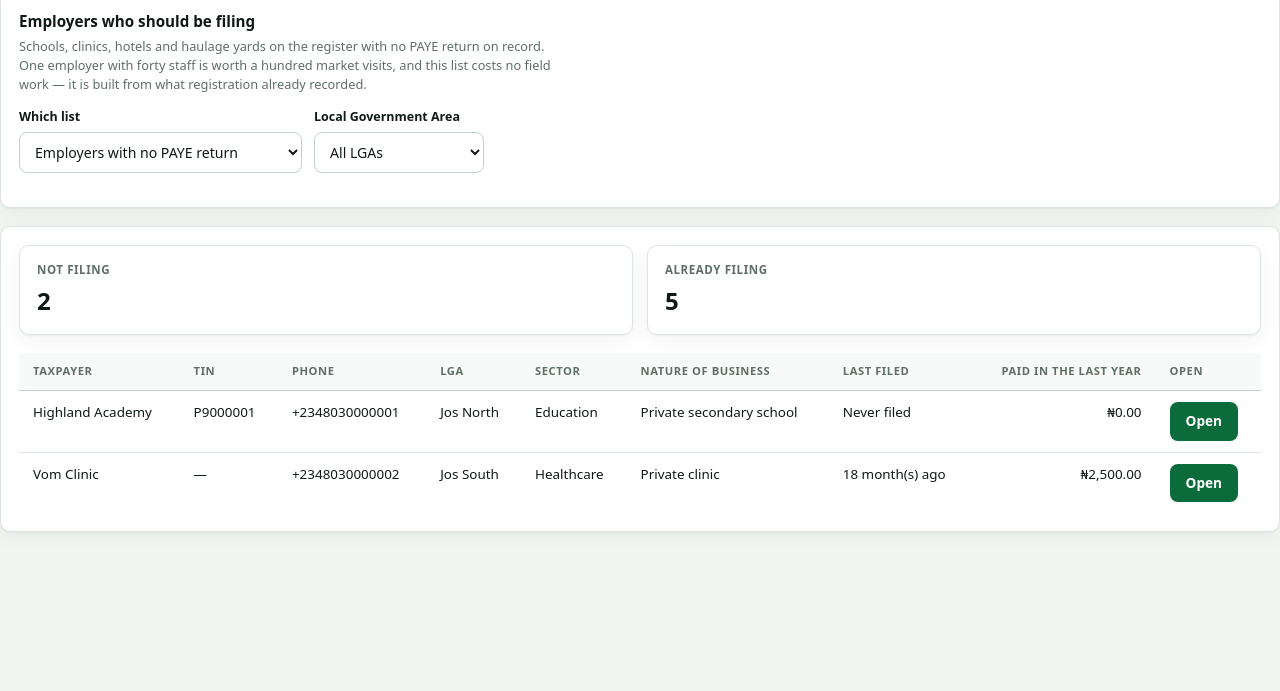
withdrawing a return › says when withdrawing a paid return asked for the payment back
Expected: the text "Highland Academy" is shown, 19,391 -> 180,452
Click the button "Open" in the row of "Highland Academy" at (1204, 421), box 1170,402 -> 1238,440
(page scrolled)
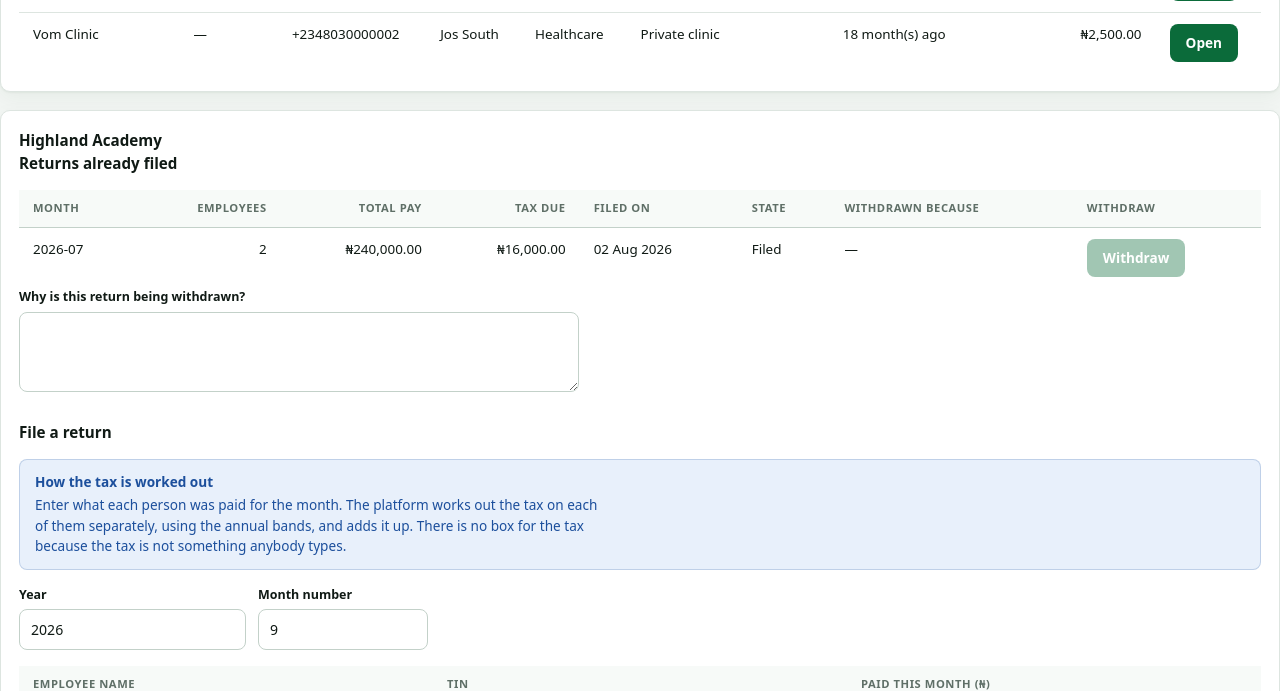
Result: the heading "File a return" is shown at 19,422 -> 112,442
Type "Gross figures were taken from the wrong column" into the text box labelled "Why is this return being withdrawn?" at (299, 352), box 19,312 -> 579,392
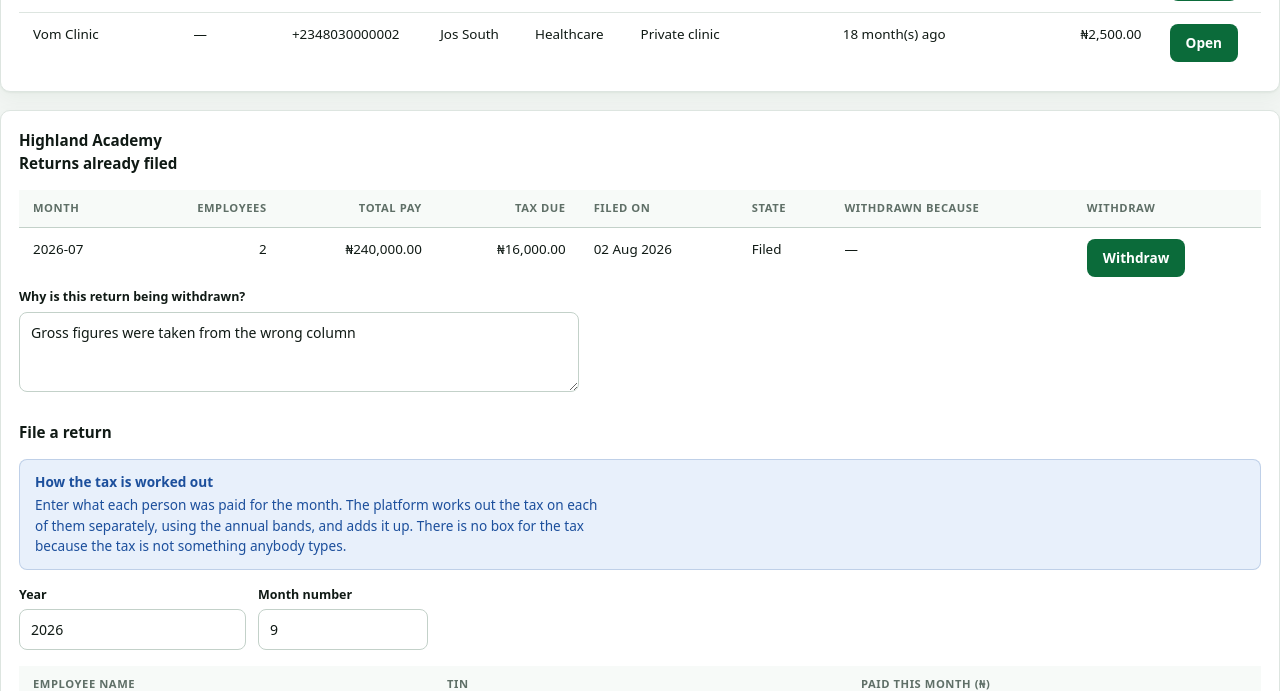
Click the button "Withdraw" at (1136, 258), box 1087,238 -> 1185,277
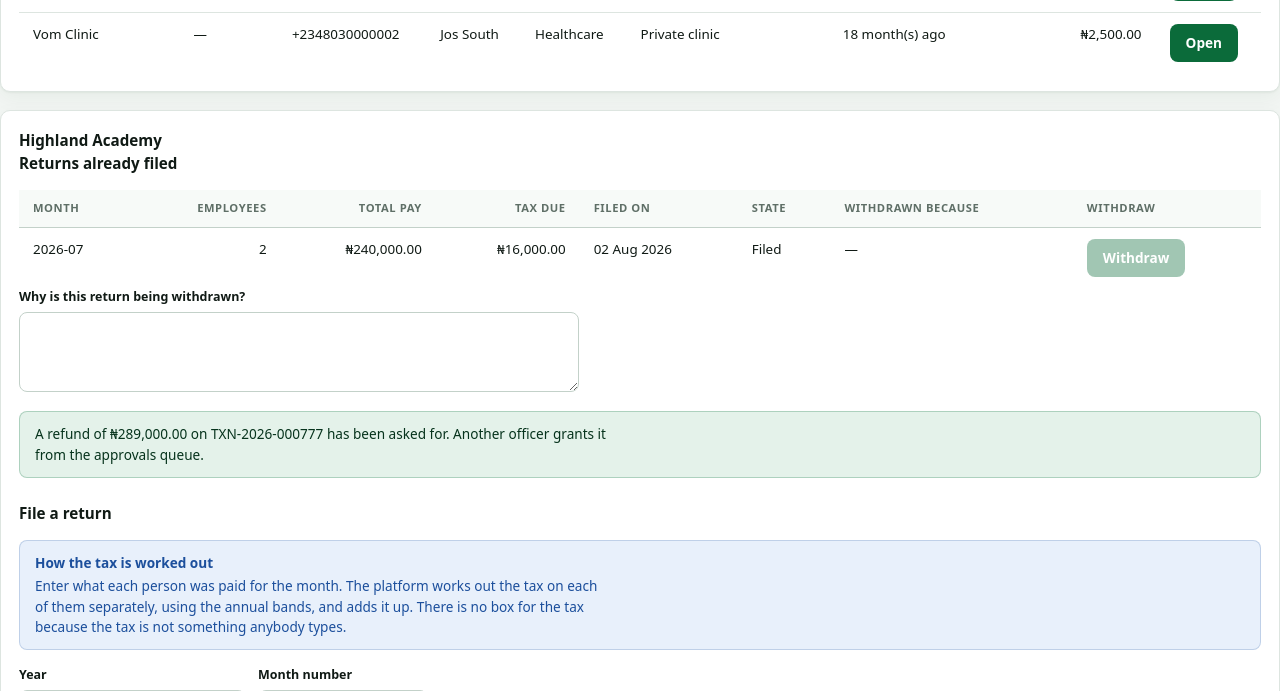
Result: the text "A refund of ₦289,000.00 on TXN-2026-000777 has been asked for. Another officer grants it from the approvals queue." is shown at 35,424 -> 606,464
